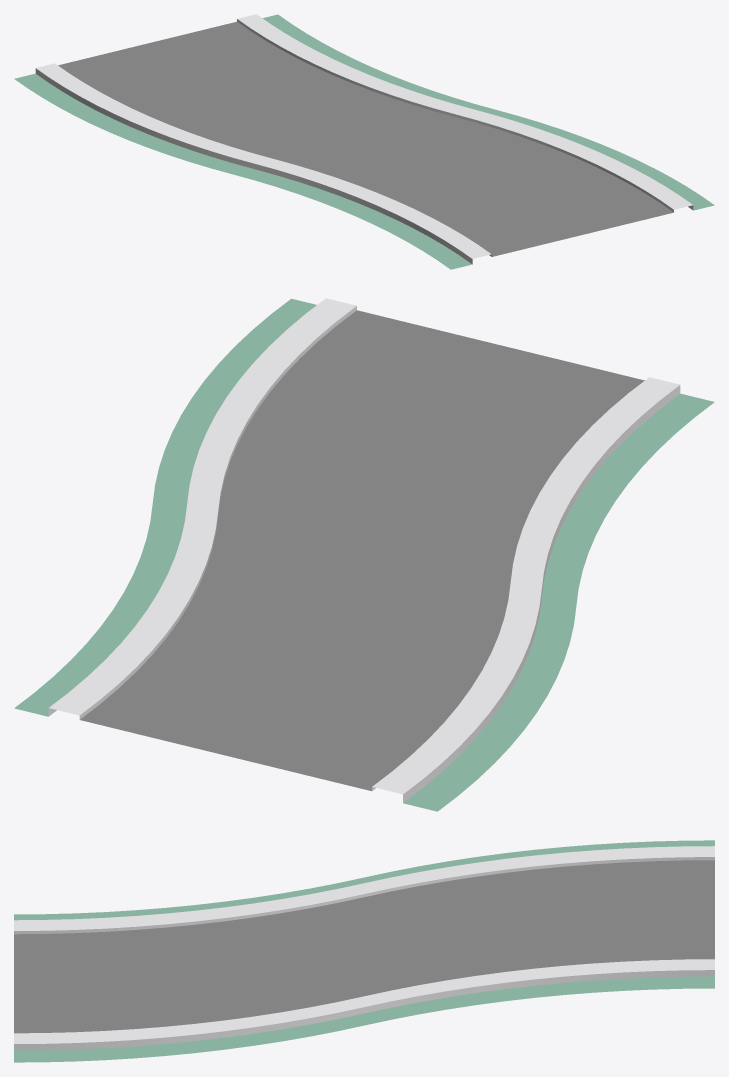
File: roadCurved.glb
3 views of the same model, one above another, from view 1: azimuth 30°, elevation 25°; view 2: azimuth 150°, elevation 25°; view 3: azimuth 270°, elevation 25° (orthographic). The views are drawn at different scales.
Parts seen in each view (by area): view 1: roadCurved; view 2: roadCurved; view 3: roadCurved.
Boxes of the visible parts, bbox=[...] form: roadCurved: bbox=[14, 14, 714, 269]; roadCurved: bbox=[14, 298, 714, 811]; roadCurved: bbox=[14, 840, 714, 1062].
Bounding box in the file's own units: 2.21 × 0.0295 × 2.95.
